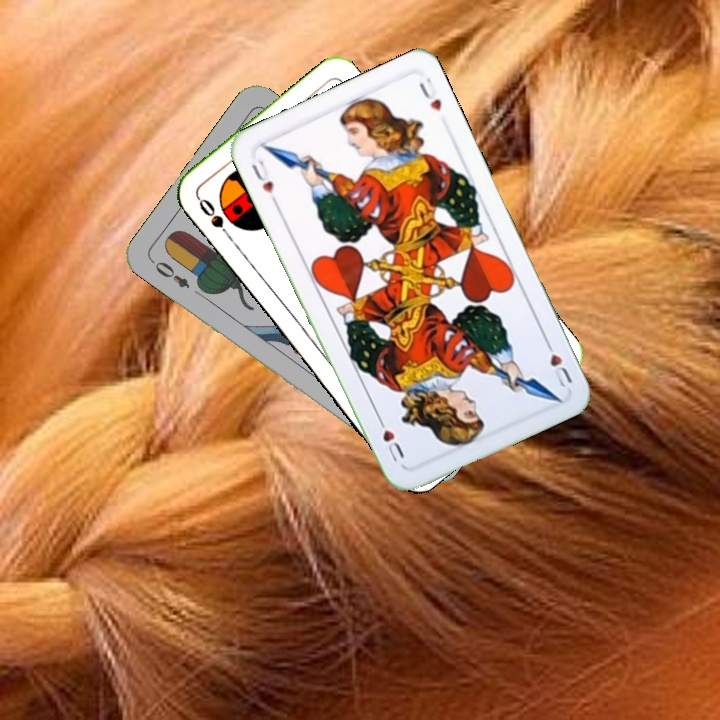EO: (147, 256, 193, 291)
HU: (541, 335, 575, 390), (247, 155, 280, 207)
SO: (194, 193, 235, 244)
